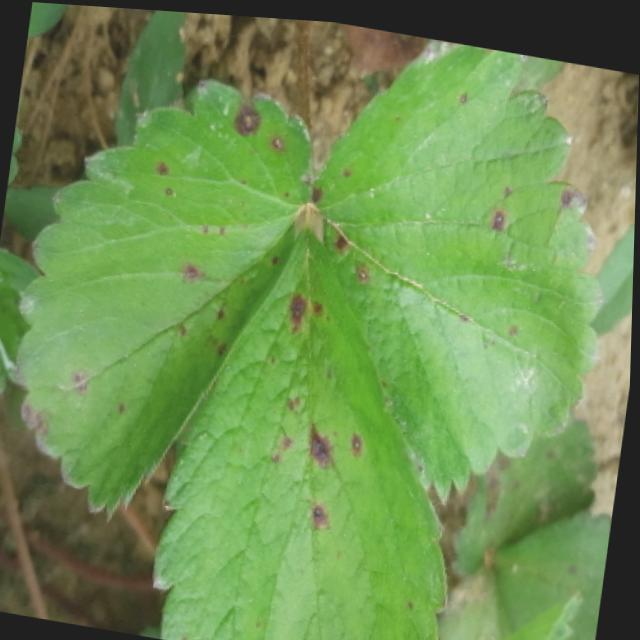Leaf Spot: (315, 36, 607, 500), (13, 76, 316, 522), (155, 217, 453, 640), (450, 405, 605, 573), (495, 498, 614, 640)
